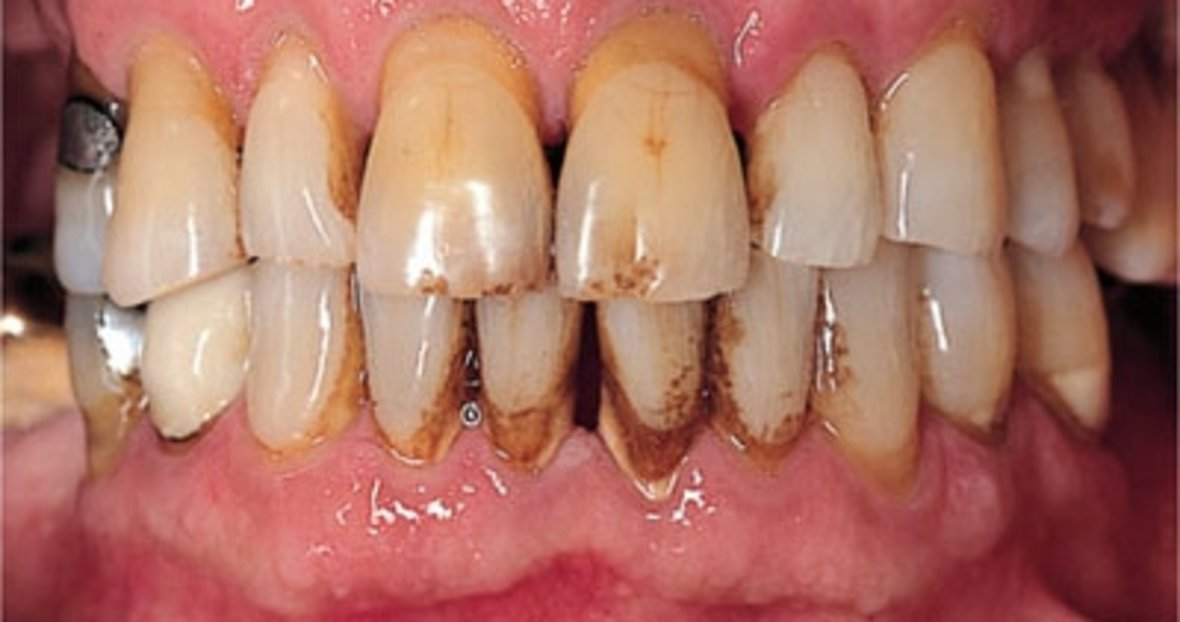LL1BC_healthy: (922, 248, 1026, 453)
LL2BC_decay: (1022, 244, 1118, 444)
LLCI_decay: (590, 296, 709, 501)
LLC_decay: (814, 255, 932, 513)
LLLI_decay: (716, 258, 823, 459)
LR1BC_decay: (140, 289, 250, 456)
LR2BC_decay: (61, 298, 150, 458)
LRCI_decay: (471, 297, 589, 486)
LRC_decay: (246, 269, 365, 459)
LRLI_decay: (356, 287, 473, 473)
UL1BC_healthy: (1004, 55, 1083, 260)
UL2BC_healthy: (1069, 63, 1144, 231)
ULCI_decay: (556, 18, 757, 318)
ULC_healthy: (873, 36, 1014, 260)
ULLI_healthy: (749, 44, 888, 277)
UR1BC_decay: (50, 91, 130, 308)
URCI_decay: (357, 24, 556, 302)
URC_healthy: (103, 48, 235, 305)
URLI_decay: (232, 48, 361, 277)
